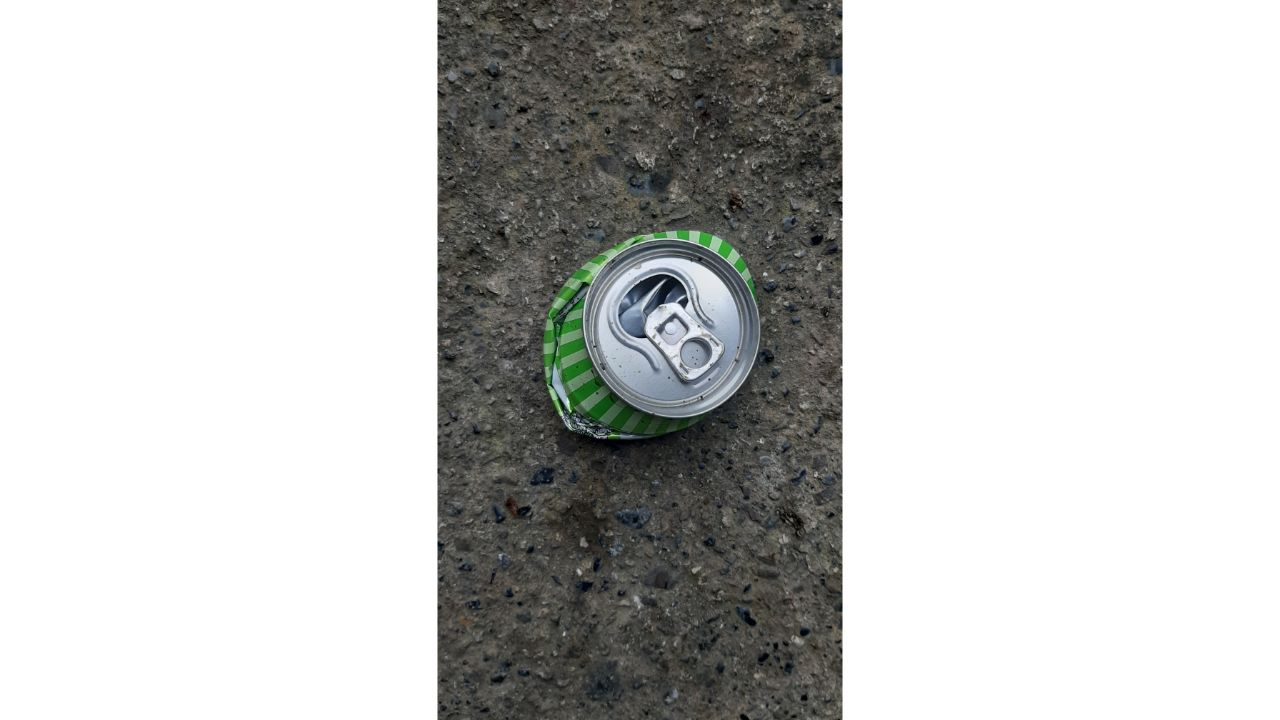Can: (542, 230, 762, 441)
